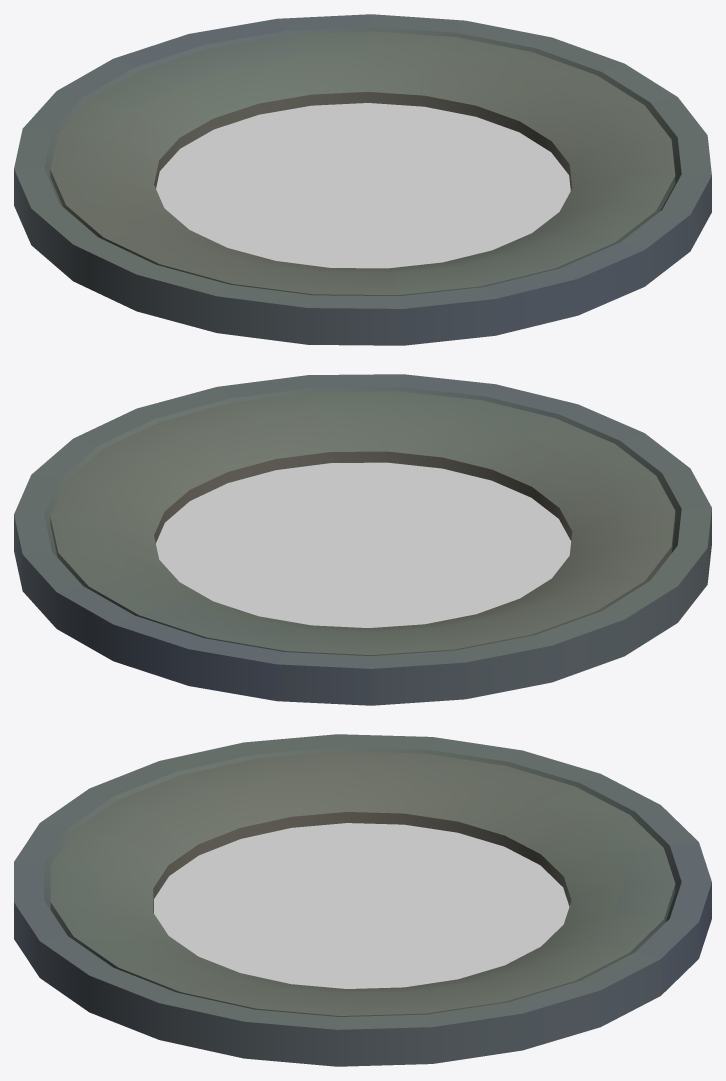
The model's file is DownLight.fbx.
The picture shows the model from 3 angles, top to bottom: view 1: azimuth 30°, elevation 25°; view 2: azimuth 150°, elevation 25°; view 3: azimuth 270°, elevation 25°; orthographic projection.
Parts seen in each view (by area): view 1: DownlightCase, DownLightBulb; view 2: DownlightCase, DownLightBulb; view 3: DownlightCase, DownLightBulb.
Part boxes in pixels (bbox=[...]): DownlightCase: bbox=[14, 14, 711, 345]; DownLightBulb: bbox=[156, 103, 570, 268]; DownlightCase: bbox=[14, 374, 711, 705]; DownLightBulb: bbox=[156, 462, 571, 627]; DownlightCase: bbox=[14, 734, 711, 1066]; DownLightBulb: bbox=[154, 823, 569, 988].
Bounding box in the file's own units: 11.69 × 0.68 × 11.66.
